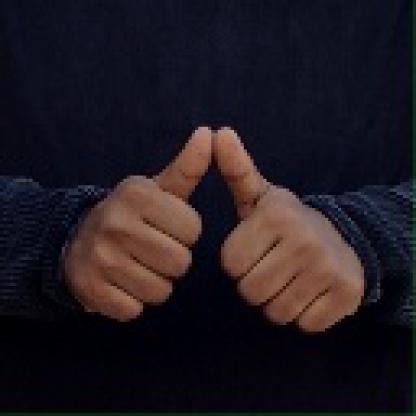A: (52, 118, 374, 332)
